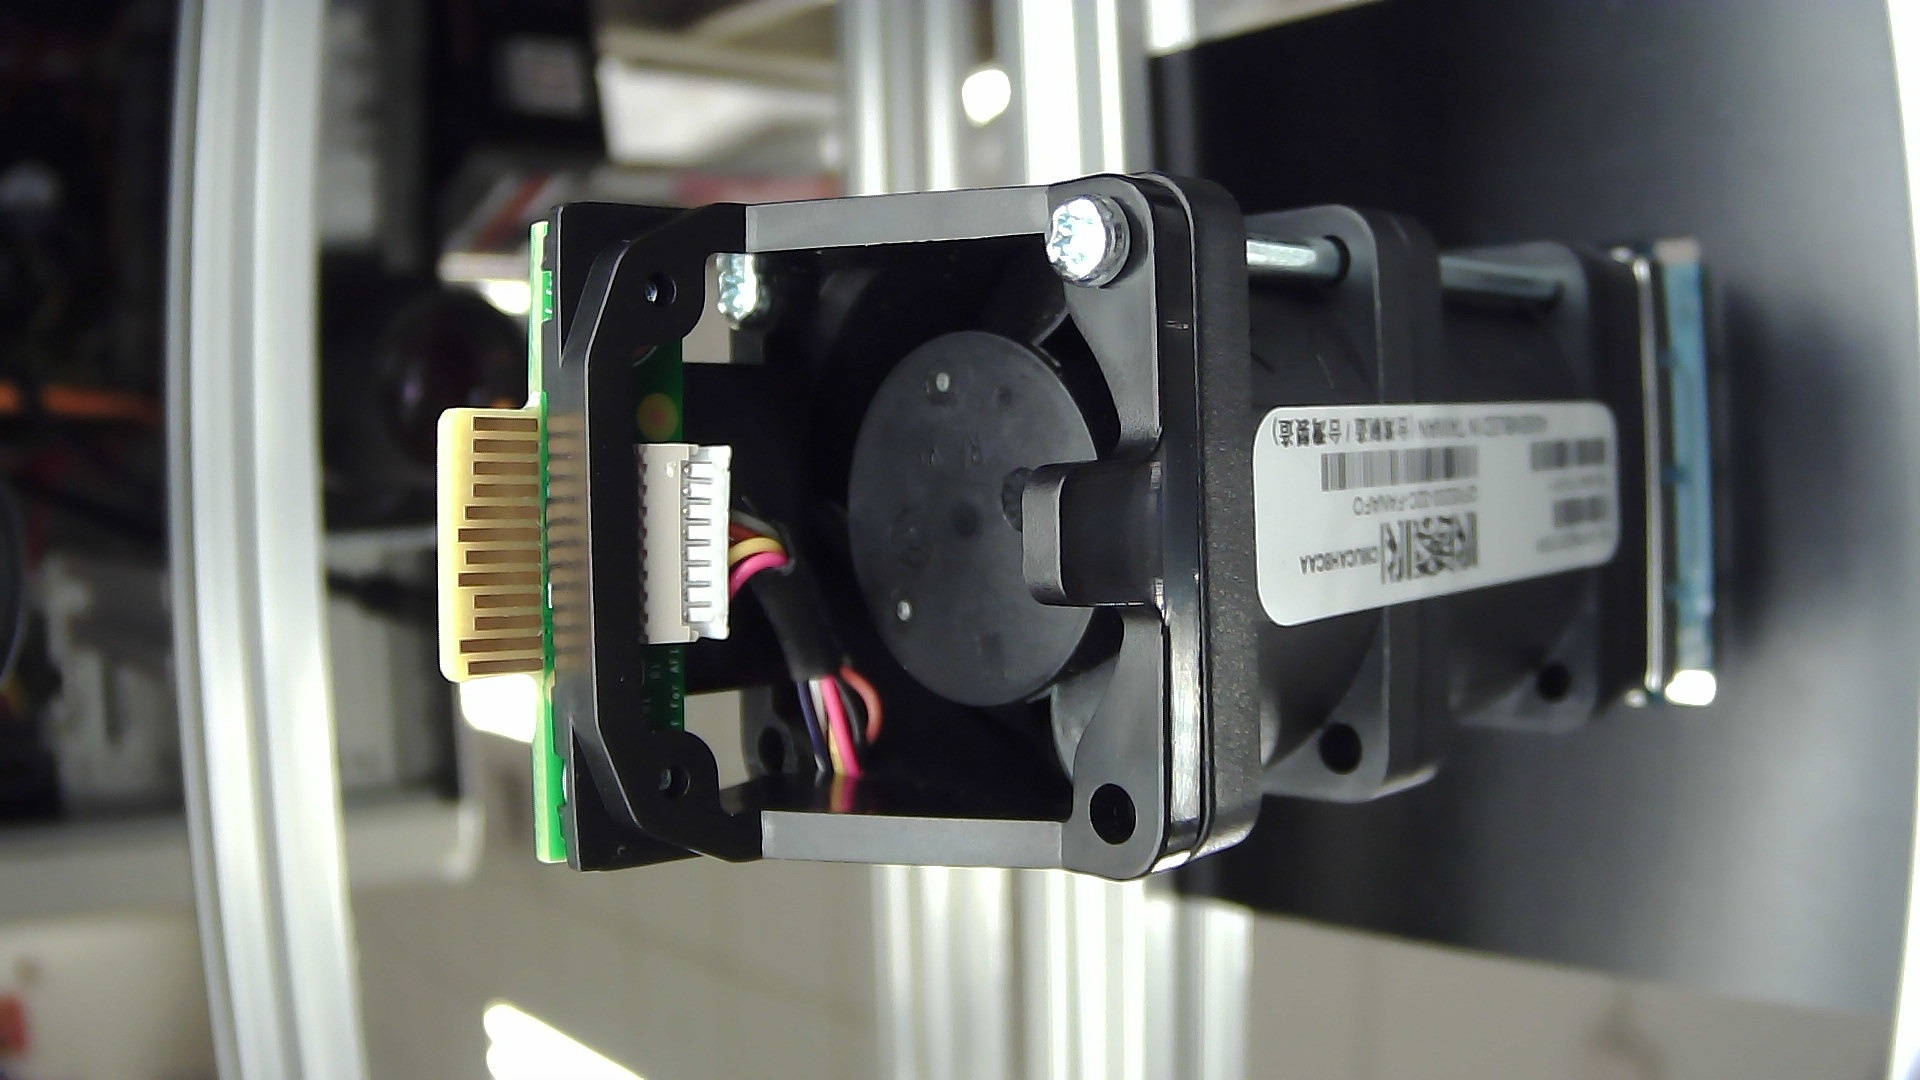8_2: (671, 429, 702, 654)
